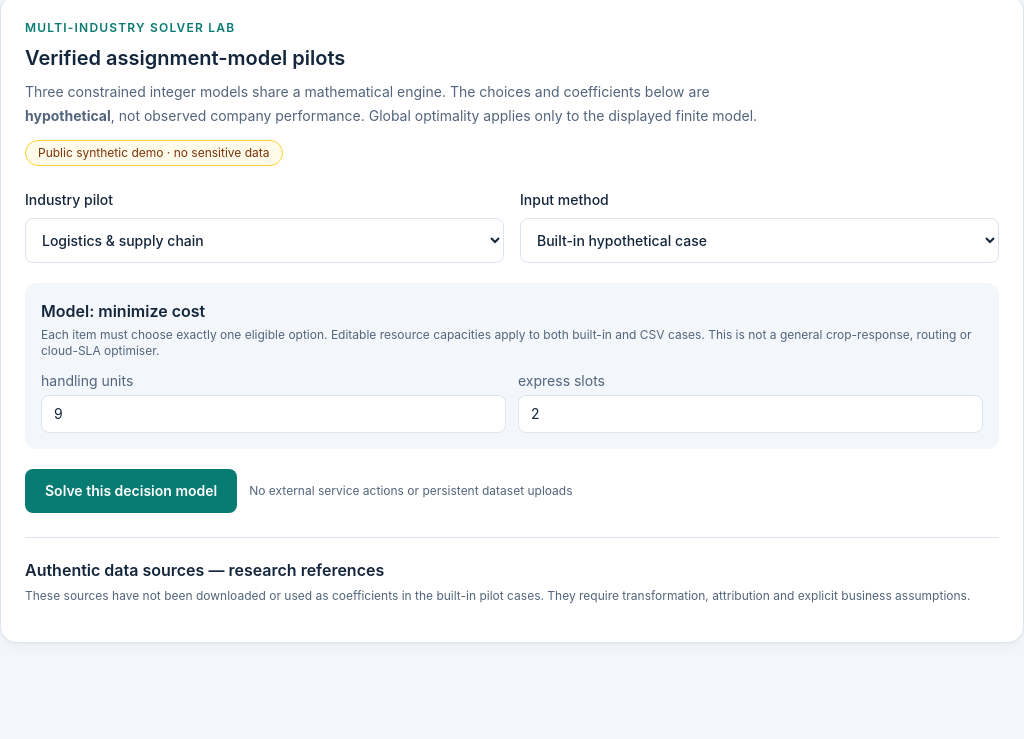
Scenario: shows provenance and returns the documented solver outcome
The image size is (1024, 739).
Check: the text "Model: minimize cost" is shown, box left=41, top=301, right=205, bottom=321
What coordinates should you click on to do the following:
click the button "Solve this decision model"
I would click on:
 (131, 491)
Its box is left=25, top=469, right=237, bottom=513.
(page scrolled)
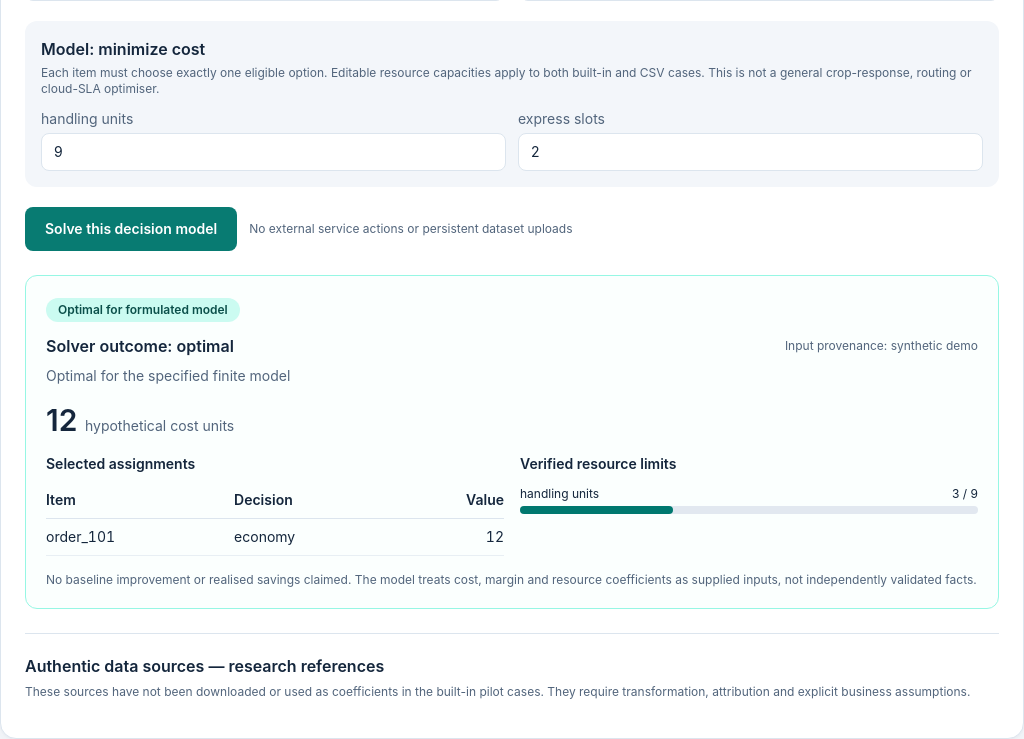
Check: the heading "Solver outcome: optimal" is shown, box left=46, top=334, right=234, bottom=358
Check: the text "Input provenance: synthetic demo" is shown, box left=785, top=338, right=978, bottom=354
Check: the text "No baseline improvement or realised savings claimed" is shown, box left=46, top=572, right=977, bottom=587
